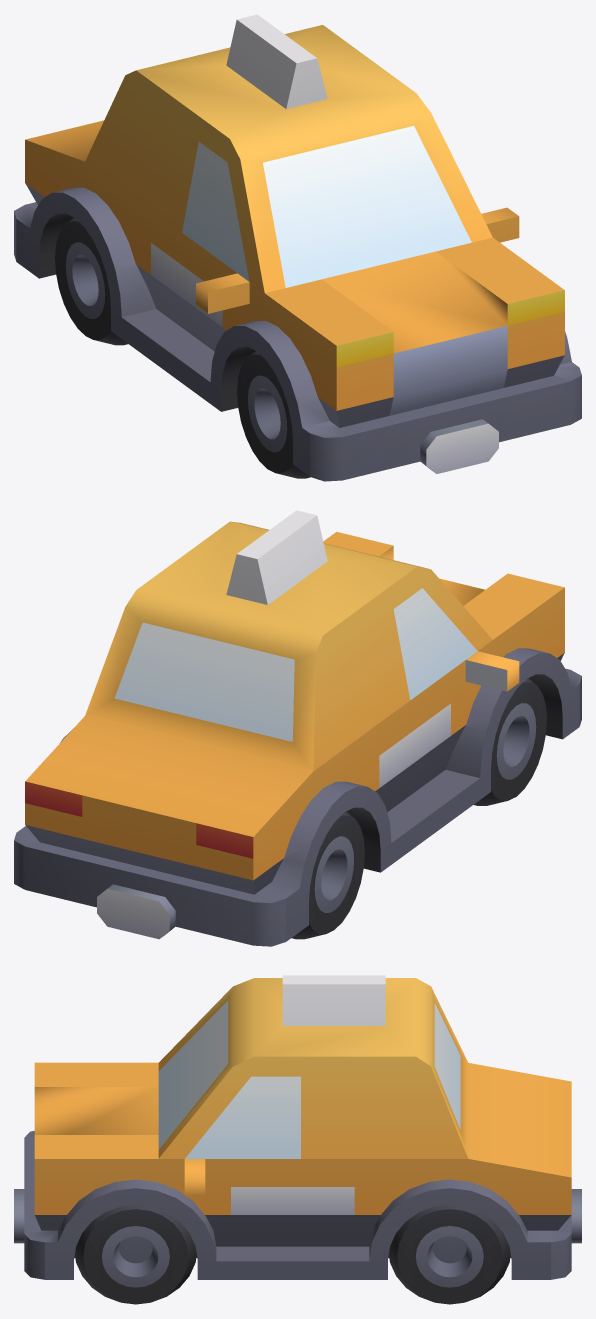
The model's file is taxi.glb.
3 renders of one model, top to bottom at view 1: azimuth 30°, elevation 25°; view 2: azimuth 150°, elevation 25°; view 3: azimuth 270°, elevation 25°, orthographic. The views are drawn at different scales.
Visible parts, largest first — view 1: body; view 2: body; view 3: body.
Part boxes in pixels (left/top/right/bottom): body: left=14, top=14, right=581, bottom=481; body: left=14, top=510, right=581, bottom=946; body: left=14, top=975, right=581, bottom=1304.
Size of the model in its own units: 1.5 by 1.5 by 2.75.
Materials: 1 (1 with a texture image).
